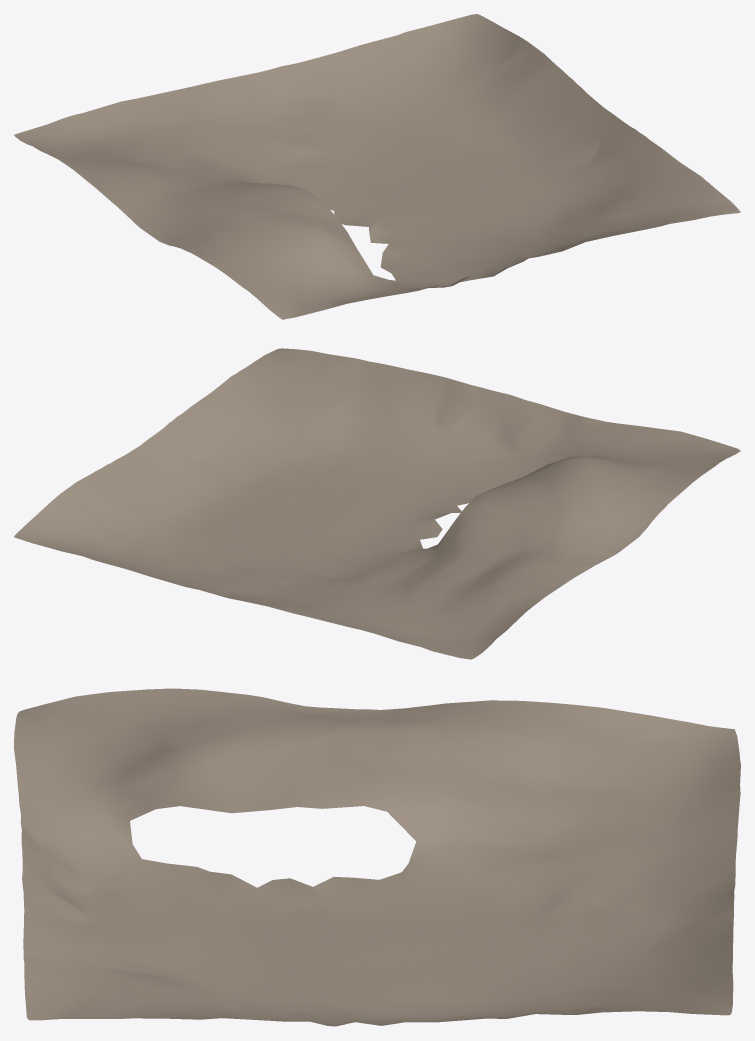
The model's file is map_navmesh.glb.
3 renders of one model, top to bottom at view 1: azimuth 30°, elevation 25°; view 2: azimuth 150°, elevation 25°; view 3: azimuth 270°, elevation 25°, orthographic. The views are drawn at different scales.
Parts seen in each view (by area): view 1: navmesh-navmesh; view 2: navmesh-navmesh; view 3: navmesh-navmesh.
Boxes of the visible parts, left/top/right/bottom form: navmesh-navmesh: left=14, top=14, right=740, bottom=319; navmesh-navmesh: left=14, top=348, right=740, bottom=659; navmesh-navmesh: left=14, top=688, right=740, bottom=1026.
Bounding box in the file's own units: 1626 × 194 × 1624.
1 material, 1 textured.
